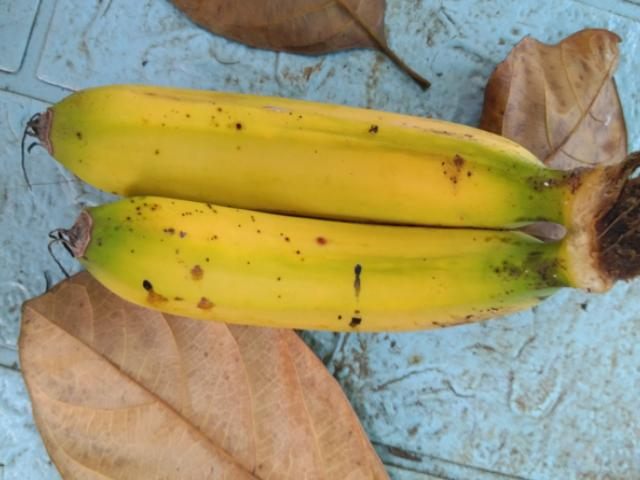freshripe: (58, 62, 516, 232)
ripe: (70, 185, 552, 383)
